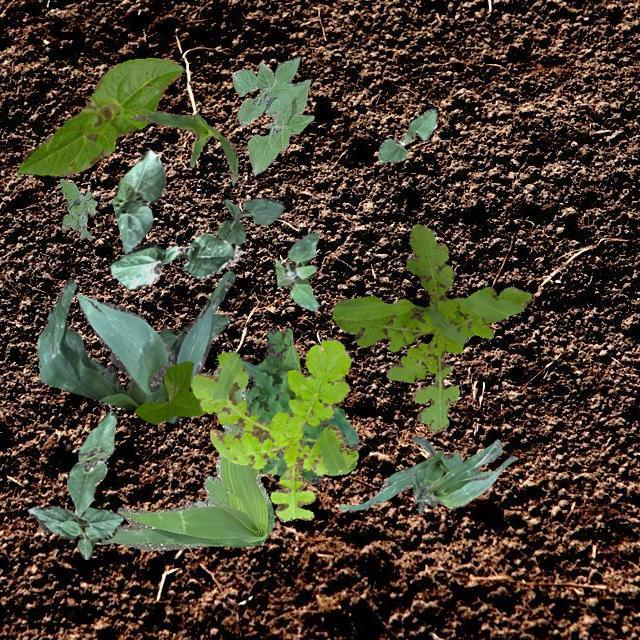crop: (35, 270, 234, 422), (18, 56, 182, 176), (230, 55, 312, 174), (338, 436, 460, 512), (130, 110, 236, 184), (107, 232, 240, 288), (410, 438, 514, 508), (112, 148, 164, 252), (66, 409, 116, 516), (27, 504, 122, 558), (134, 361, 206, 424), (378, 108, 437, 162), (216, 198, 282, 244), (158, 313, 230, 353)
weed: (332, 223, 530, 432), (94, 366, 274, 550), (190, 338, 358, 520), (238, 327, 358, 482), (274, 232, 318, 310), (58, 178, 96, 238)
